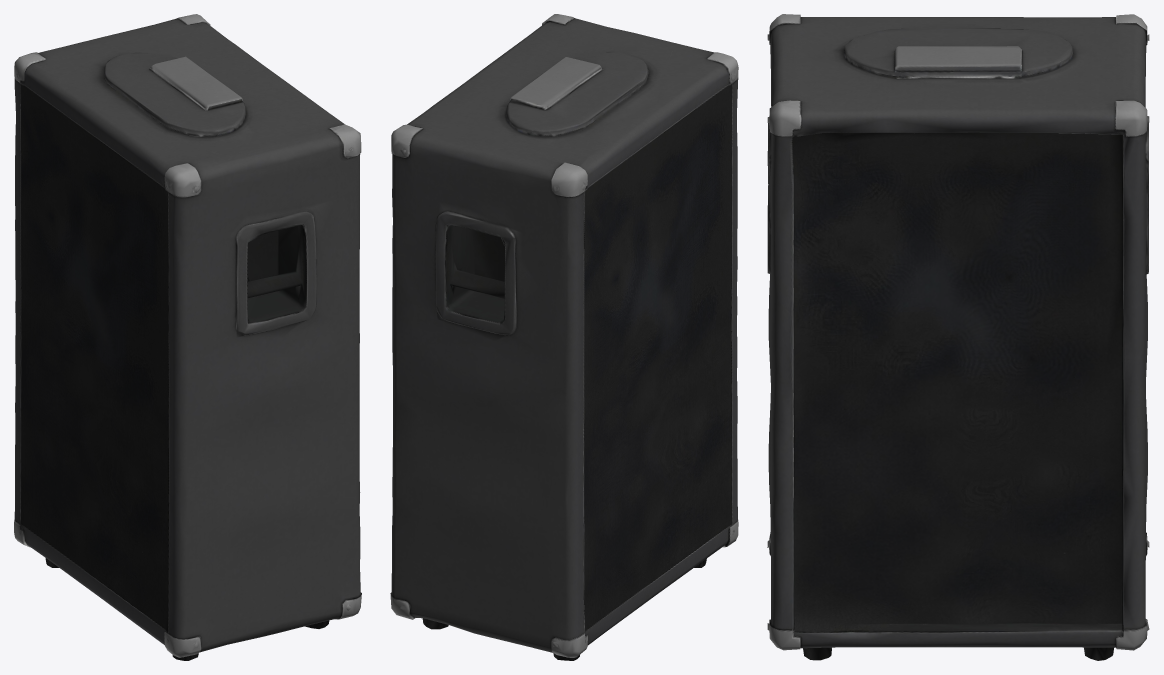
Rendered from bass_amplifier_3d_model.fbx.
The picture shows the model from 3 angles, left to right: view 1: azimuth 30°, elevation 25°; view 2: azimuth 150°, elevation 25°; view 3: azimuth 270°, elevation 25°; orthographic projection. The views are drawn at different scales.
Parts seen in each view (by area): view 1: tripo_node_4cb59c16; view 2: tripo_node_4cb59c16; view 3: tripo_node_4cb59c16.
Part boxes in pixels (x1,y1,x2,y2): tripo_node_4cb59c16: (14, 14, 361, 660); tripo_node_4cb59c16: (390, 14, 738, 660); tripo_node_4cb59c16: (767, 14, 1149, 660).
Bounding box in the file's own units: 0.3803 × 0.9804 × 0.5962.
